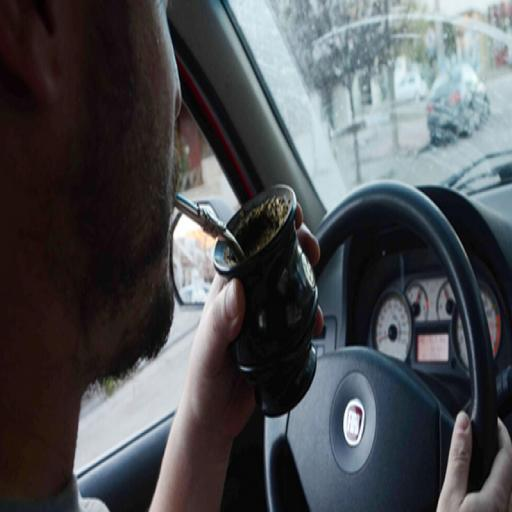mate: (215, 170, 323, 422)
